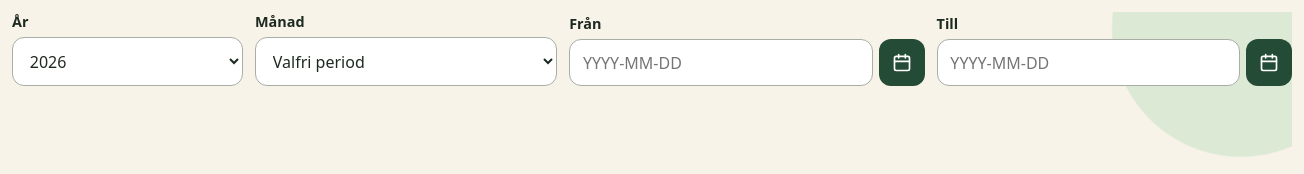
Test case: dashboardens periodfilter › fyller i hela den valda månaden
The width and height of the screenshot is (1304, 174).
Select "Juli" in the dropdown labelled "Månad". click: (406, 62)
box: [255,37,557,86]
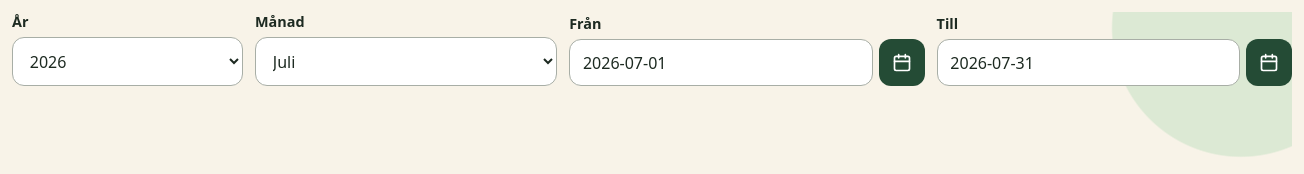
Expected: the field labelled "Från" holds "2026-07-01", [569,39,873,86]
Expected: the field labelled "Till" holds "2026-07-31", [937,39,1240,86]
